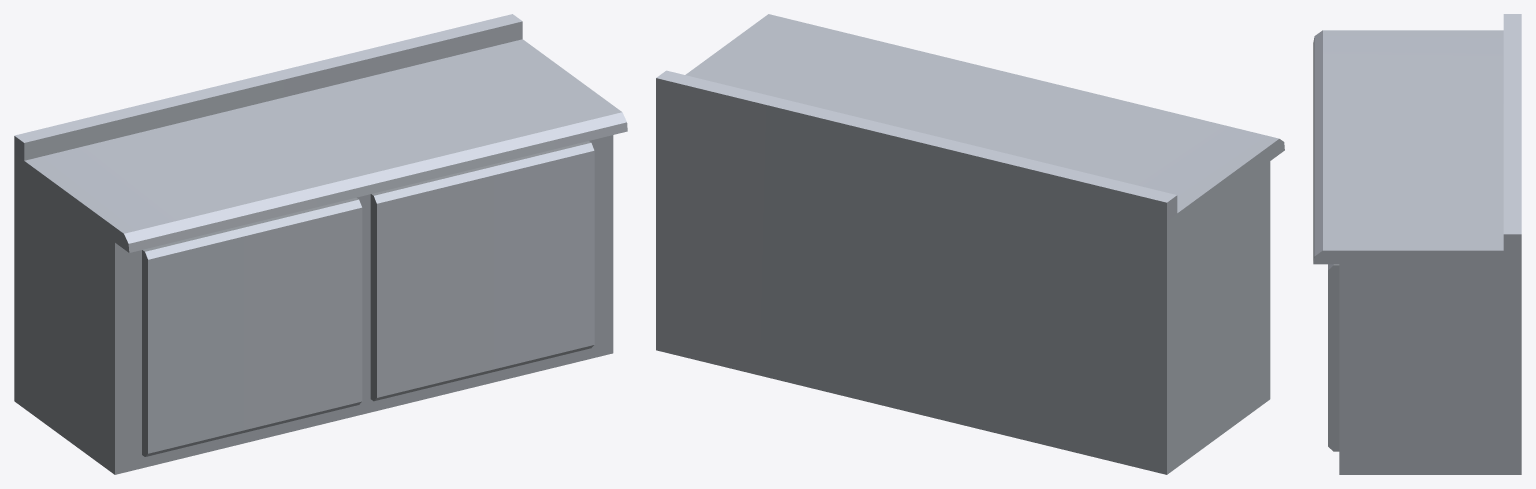
Rendered from MetalCounter_Mesh.fbx.
The picture shows the model from 3 angles, left to right: view 1: azimuth 30°, elevation 25°; view 2: azimuth 150°, elevation 25°; view 3: azimuth 270°, elevation 25°; orthographic projection. The views are drawn at different scales.
Visible parts, largest first — view 1: MetalCounter_Mesh; view 2: MetalCounter_Mesh; view 3: MetalCounter_Mesh.
Boxes of the visible parts, x1,y1,x2,y2 form: MetalCounter_Mesh: (14, 14, 627, 474); MetalCounter_Mesh: (656, 14, 1284, 474); MetalCounter_Mesh: (1313, 14, 1521, 474).
Size of the model in its own units: 200 by 102 by 79.99.
1 material, 1 textured.
